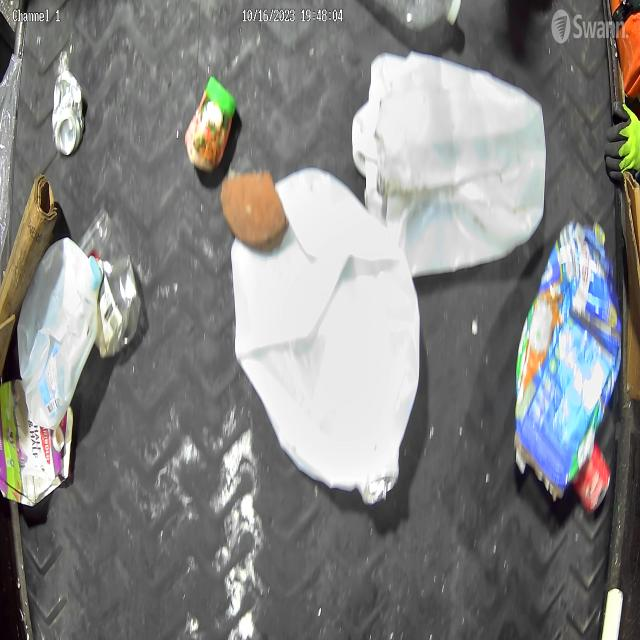can: (52, 69, 85, 157), (573, 444, 612, 518)
milk_jug: (230, 166, 421, 507), (350, 51, 548, 279), (17, 238, 102, 432)
